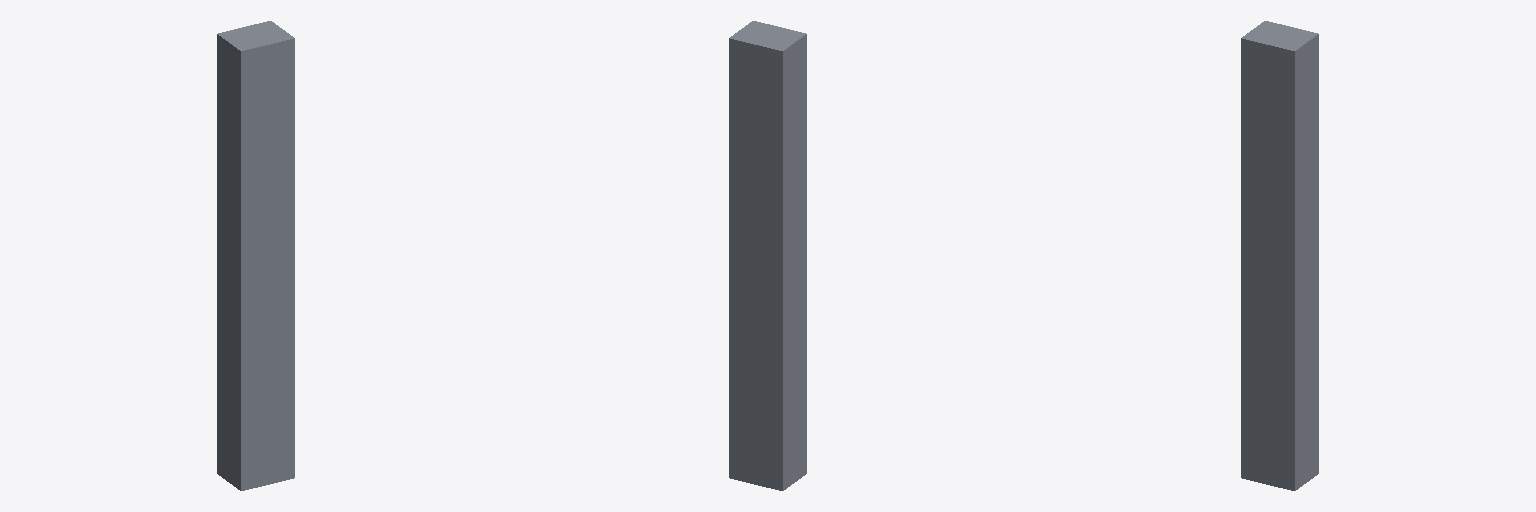
The robot description file, URDF, robot "artmanip_knife_000":
<?xml version='1.0' encoding='utf-8'?>
<robot name="artmanip_knife_000"><link name="link_0"><inertial><mass value="0.03947222222222222" /><inertia ixx="6.511600925925927e-05" iyy="6.553704629629631e-05" izz="1.7104629629629628e-06" ixy="0" ixz="0" iyz="0" /></inertial><visual><geometry><box size="0.018 0.014 0.14" /></geometry><material name="link_0_color"><color rgba=".58 .60 .64 1" /></material></visual><collision><geometry><box size="0.018 0.014 0.14" /></geometry></collision></link><link name="link_1"><inertial><mass value="0.004" /><inertia ixx="3.0133333333333333e-07" iyy="3.3333333333333335e-07" izz="3.4666666666666666e-08" ixy="0" ixz="0" iyz="0" /></inertial><visual><geometry><mesh filename="slider-shoulder.obj" scale="1 0.666667 1" /></geometry><material name="link_1_color"><color rgba=".12 .13 .15 1" /></material></visual><collision><geometry><mesh filename="slider-shoulder.obj" scale="1 0.666667 1" /></geometry></collision></link><joint name="slider" type="prismatic"><parent link="link_0" /><child link="link_1" /><origin xyz="-0.0006849040178895016 0.008 0.014657510538529601" /><axis xyz="0 0 1" /><limit lower="-0.03267458688196273" upper="0.017325413118037272" effort="100" velocity="1" /><dynamics damping="1000" friction="0.001" /></joint></robot>

--- Render facts (derived) ---
The picture shows the robot from 3 angles, left to right: view 1: azimuth 30°, elevation 25°; view 2: azimuth 150°, elevation 25°; view 3: azimuth 330°, elevation 25°; orthographic projection.
Robot: artmanip_knife_000 — 2 links, 1 joints (1 prismatic); root link link_0; default pose: every joint at zero.
Links seen in each view (by area): view 1: link_0; view 2: link_0; view 3: link_0.
Link boxes in pixels (left/top/right/bottom): link_0: left=217, top=21, right=294, bottom=490; link_0: left=729, top=21, right=806, bottom=490; link_0: left=1241, top=21, right=1318, bottom=490.
Size in the robot's own frame: 0.018 by 0.014 by 0.14 metres.
Meshes: 1 distinct files referenced, 0 mesh visuals loaded (none loaded); not drawn: 1 (reference not matched to a file when rendering).
